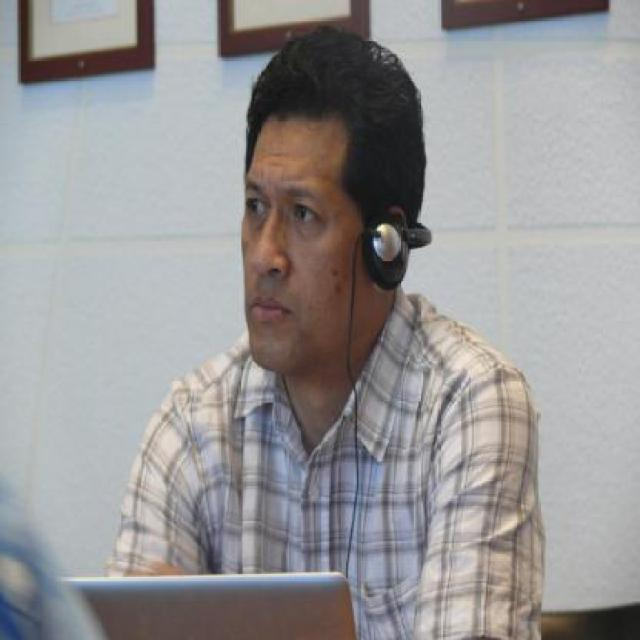earphone: (342, 193, 453, 297)
laptop_computer: (35, 550, 380, 640)
